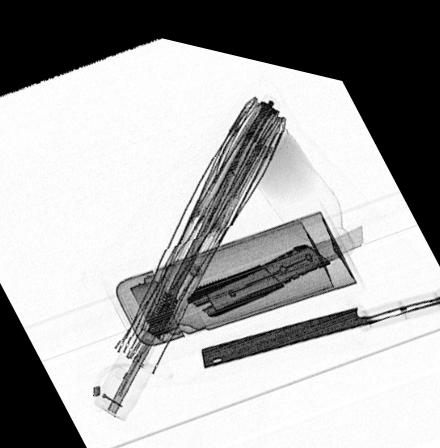Knife: (199, 264, 440, 359), (184, 206, 362, 308)
